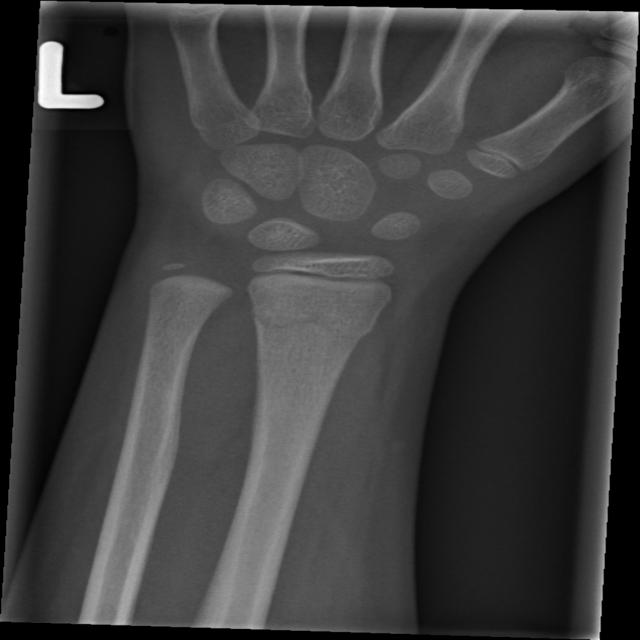radius fracture: (237, 292, 421, 383)
